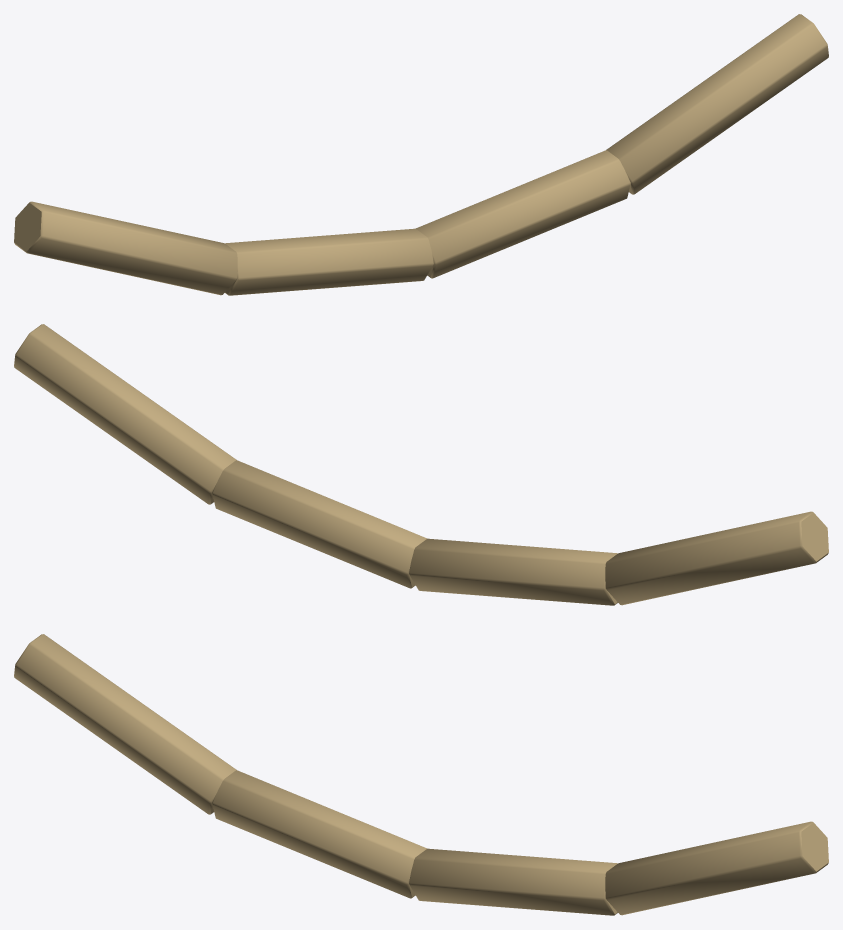
The model's file is rope_short_01.glb.
The picture shows the model from 3 angles, top to bottom: view 1: azimuth 30°, elevation 25°; view 2: azimuth 150°, elevation 25°; view 3: azimuth 330°, elevation 25°; orthographic projection.
Visible parts, largest first — view 1: rope_short_01; view 2: rope_short_01; view 3: rope_short_01.
Boxes of the visible parts, bbox=[...] form: rope_short_01: bbox=[14, 14, 828, 295]; rope_short_01: bbox=[14, 324, 828, 605]; rope_short_01: bbox=[14, 634, 828, 915].
Size of the model in its own units: 1.02 by 0.1983 by 0.058.
